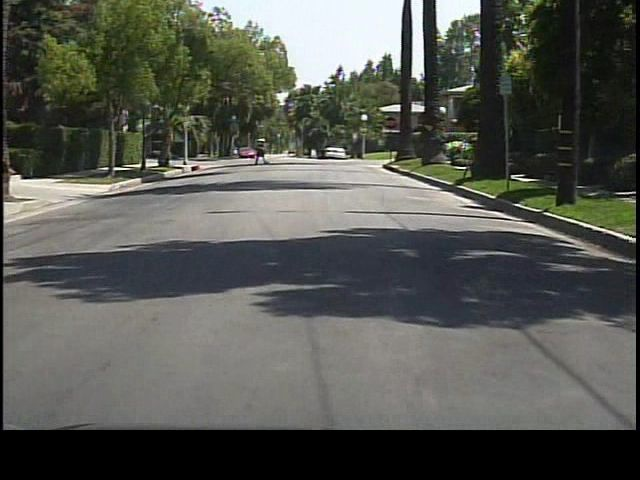person: (254, 136, 267, 167)
